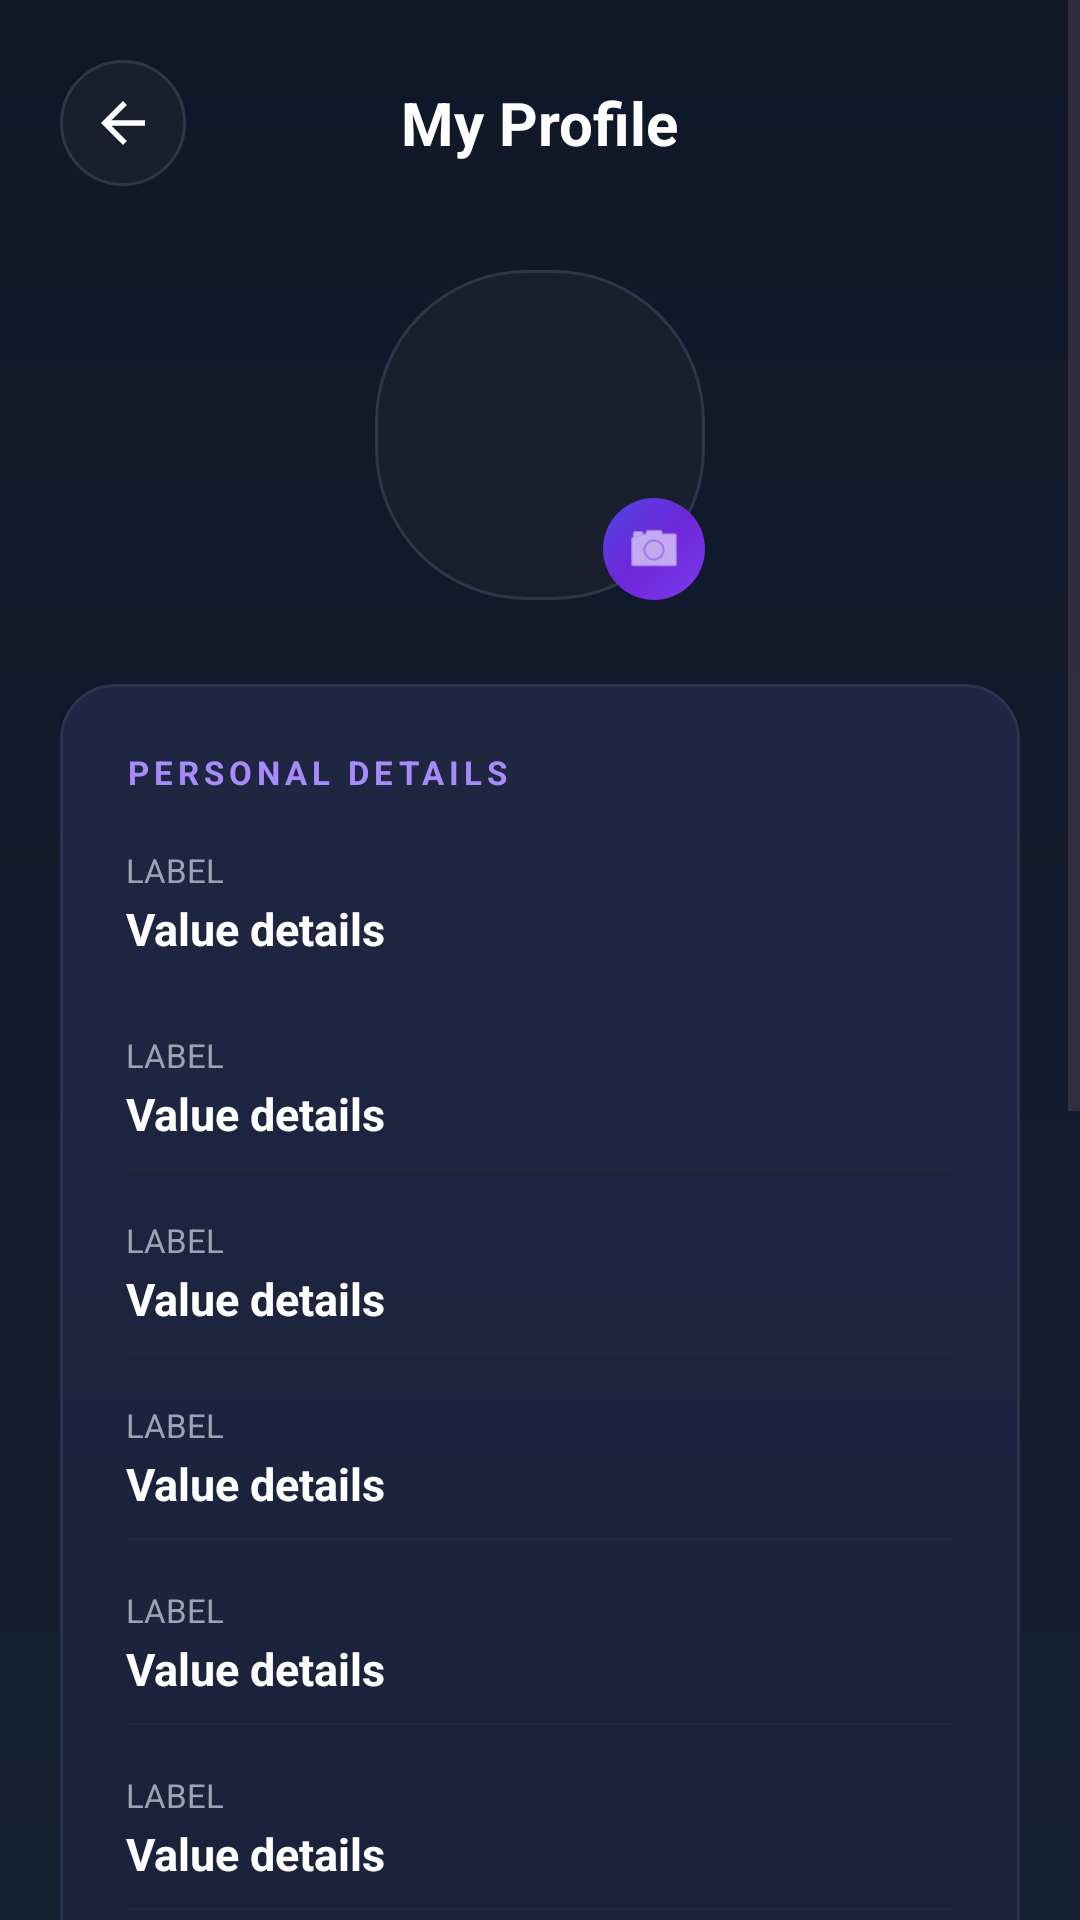

Icons on this 1080 × 1920 Android screen, each with its box as (x1, y1, x2, y2):
back arrow: (60, 60, 186, 186)
camera: (603, 498, 705, 600)
